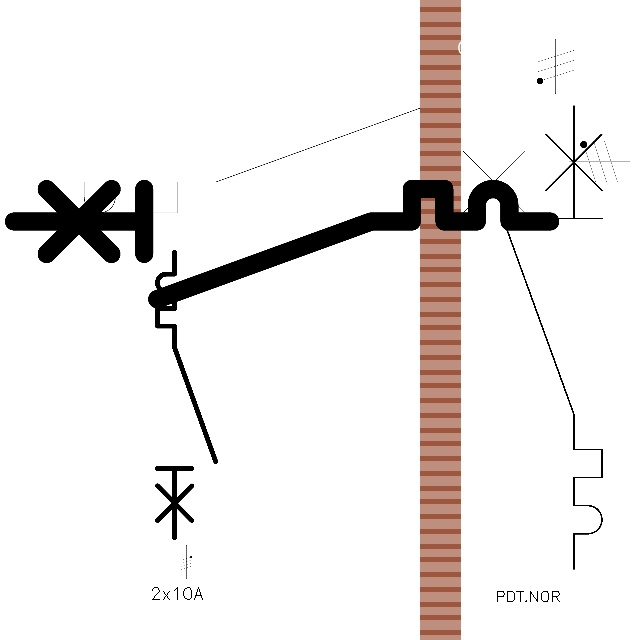interruptor_termomagnetico: (0, 175, 564, 313), (32, 95, 569, 226), (495, 94, 614, 581), (150, 245, 223, 545)
